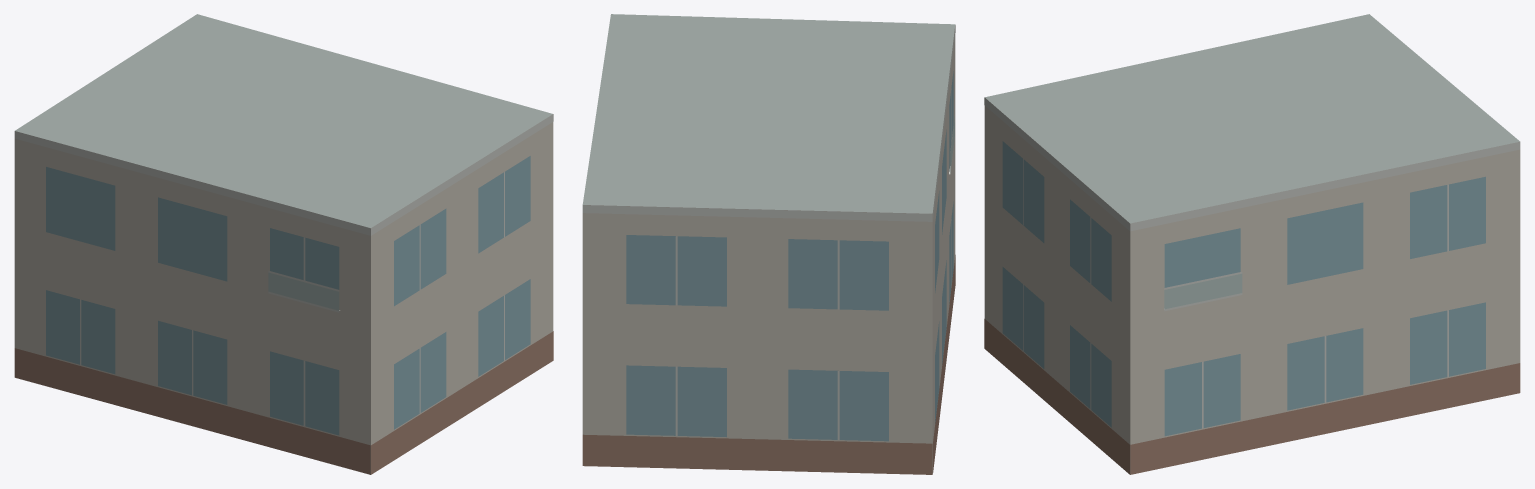
File: survey-upis-32724067.glb
The picture shows the model from 3 angles, left to right: view 1: azimuth 30°, elevation 25°; view 2: azimuth 150°, elevation 25°; view 3: azimuth 270°, elevation 25°; orthographic projection. The views are drawn at different scales.
Visible parts, largest first — view 1: survey-upis-32724067.tmp; view 2: survey-upis-32724067.tmp; view 3: survey-upis-32724067.tmp.
Part boxes in pixels (x1,y1,x2,y2): survey-upis-32724067.tmp: [14, 14, 553, 474]; survey-upis-32724067.tmp: [582, 14, 955, 474]; survey-upis-32724067.tmp: [984, 14, 1520, 474].
Bounding box in the file's own units: 13.95 × 7.8 × 15.08.
